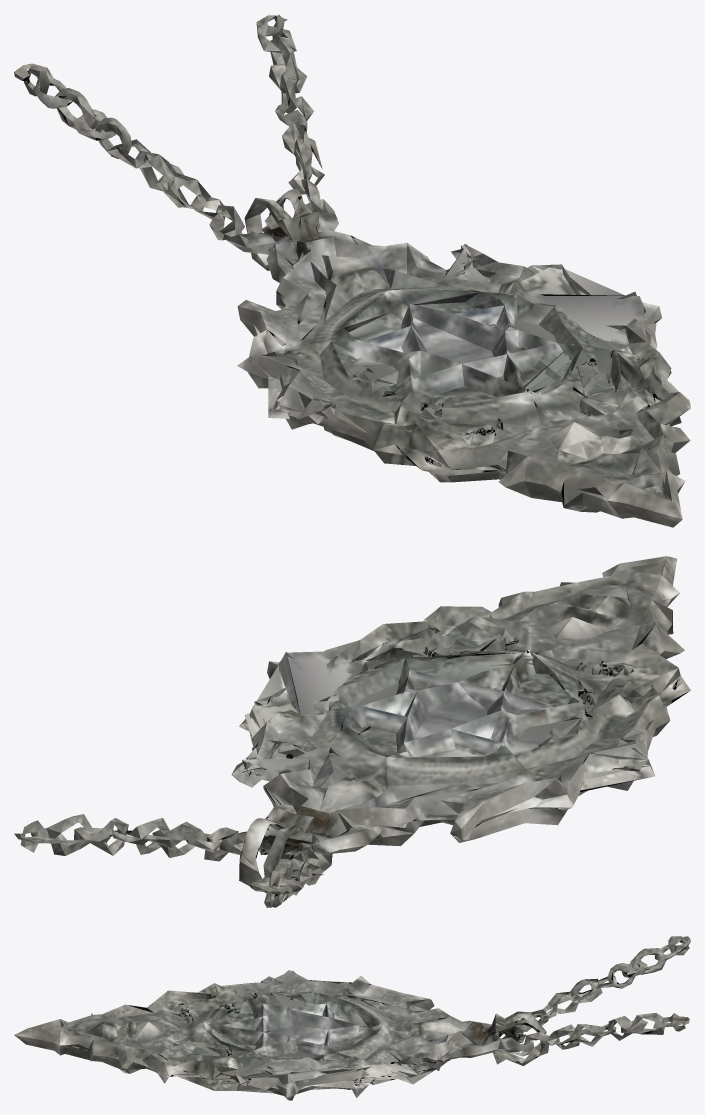
The model's file is medallion_LOD1.glb.
The picture shows the model from 3 angles, top to bottom: view 1: azimuth 30°, elevation 25°; view 2: azimuth 150°, elevation 25°; view 3: azimuth 270°, elevation 25°; orthographic projection. The views are drawn at different scales.
Visible parts, largest first — view 1: medallion_LOD1; view 2: medallion_LOD1; view 3: medallion_LOD1.
Part boxes in pixels (box(x1,y1,x2,y2)): medallion_LOD1: box(14, 14, 690, 527); medallion_LOD1: box(14, 556, 690, 907); medallion_LOD1: box(14, 936, 690, 1100).
Bounding box in the file's own units: 0.0507 × 0.0193 × 0.1202.
Materials: 1 (1 with a texture image).
